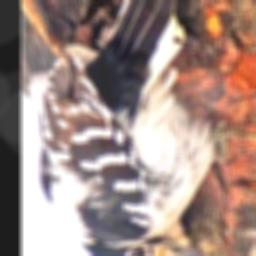Woodpecker: (26, 0, 256, 256)
